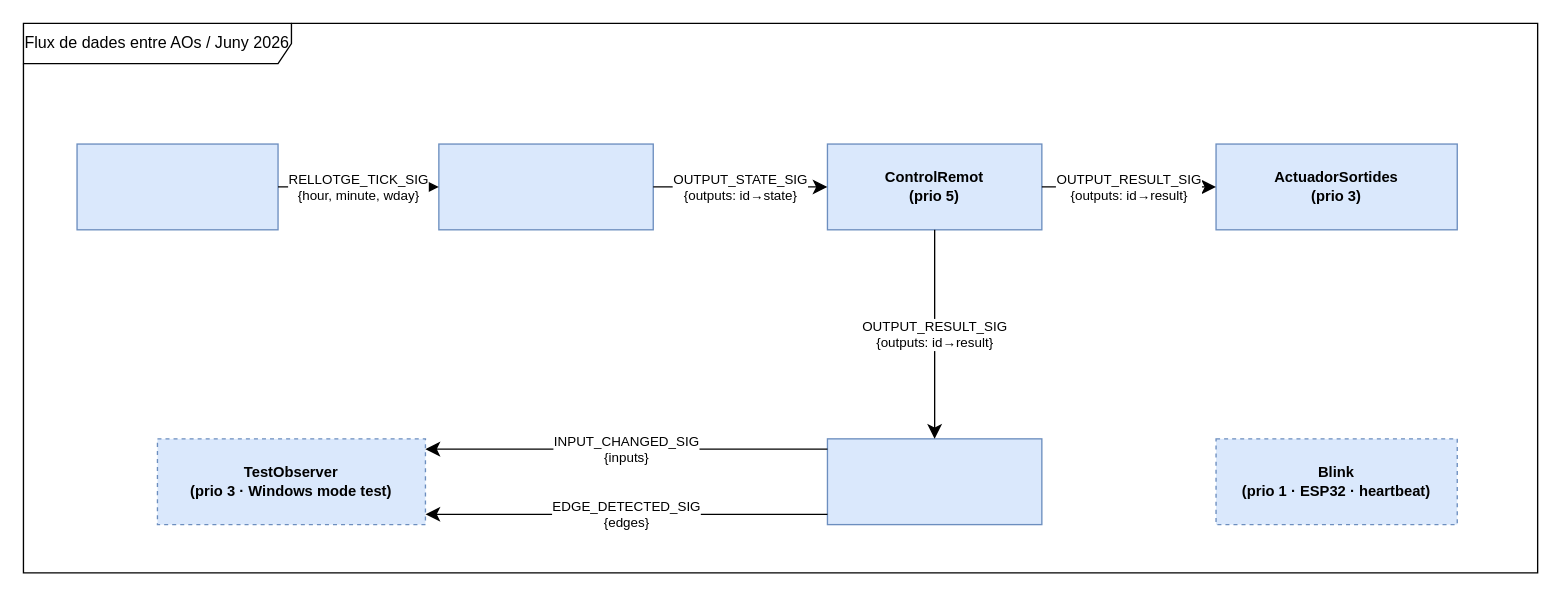
Image size: 1561x596. Some labels were removed from this diagram. The shapes that lost their labels are listed below. From the top down, each one's centre as x and y in pixels, then its label:
At (x=177, y=186): "Rellotge (prio 7)".
At (x=545, y=186): "ControlHorari (prio 4)".
At (x=934, y=481): "ControlEntrades (prio 6)".
